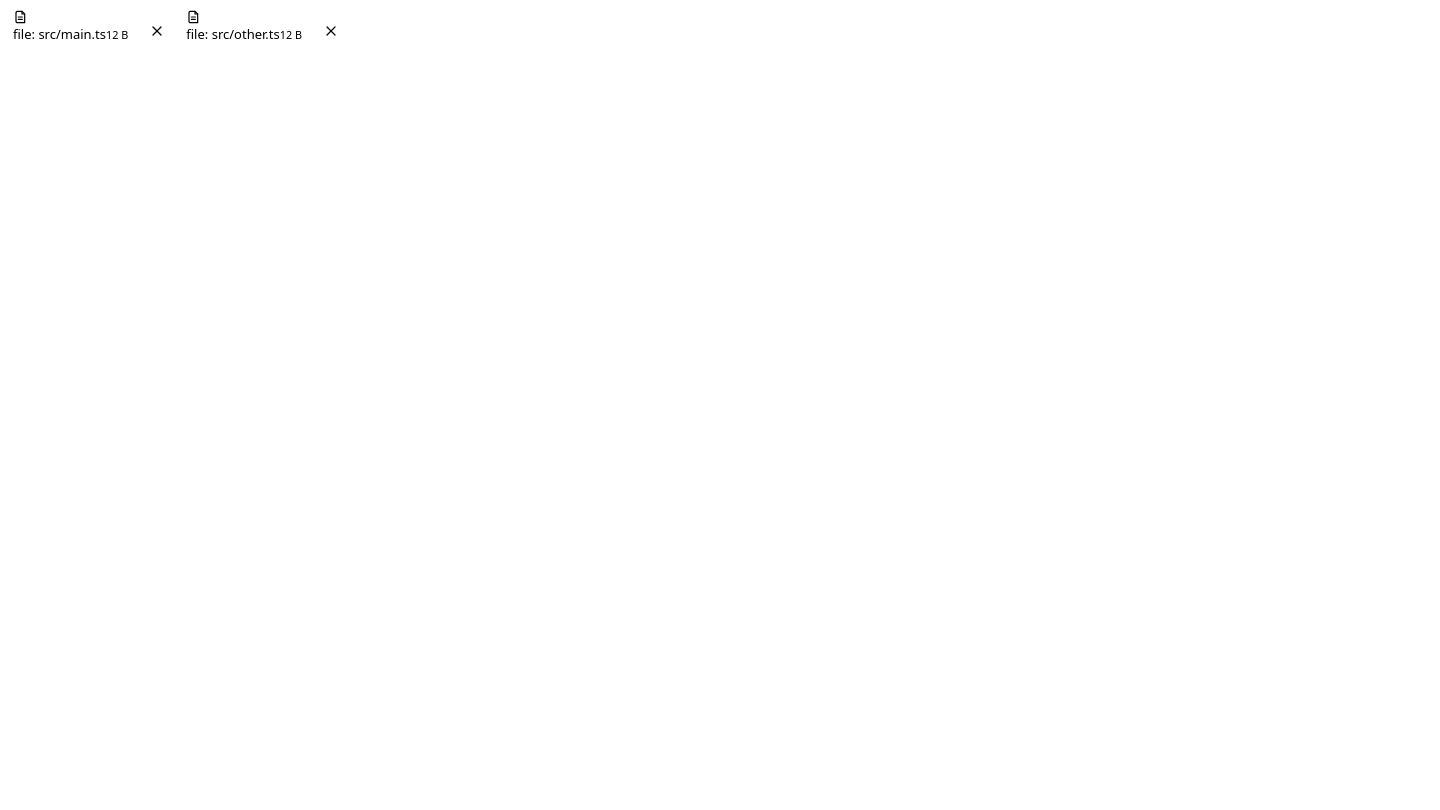
Scenario: EditorContextChips › drops the preview when its context chip is removed
Click the button with aria-label "Preview file: src/main.ts": (71, 26) [0,0,141,53]
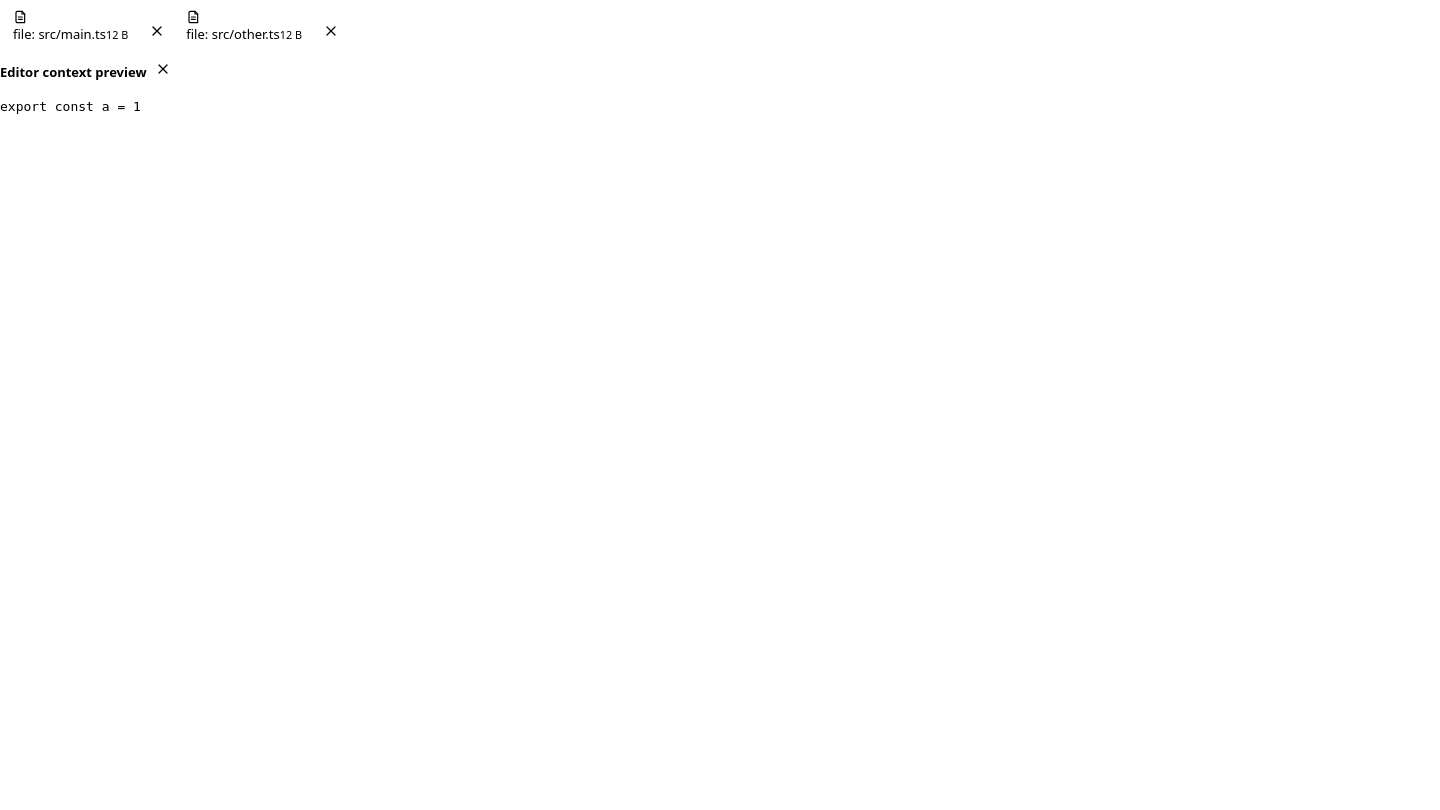
expect the dialog "Editor context preview" is shown: met, box [0,53,178,114]
